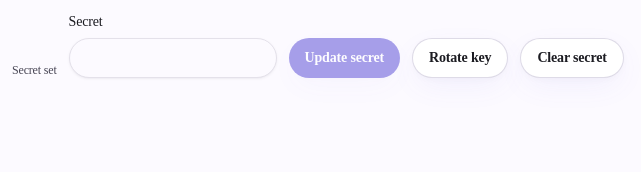
Test: SetCredentialSecretForm › shows an inline error when rotation fails
Click the button "Rotate key". click: {"x": 460, "y": 58}
box: [412, 38, 508, 78]
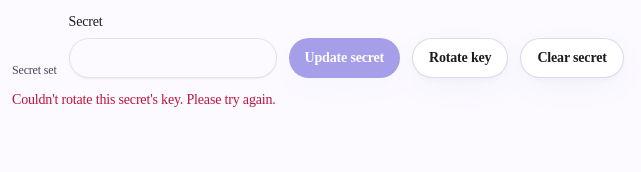
Result: the text "Couldn't rotate this secret's key. Please try again." is shown at [12, 92, 276, 107]
